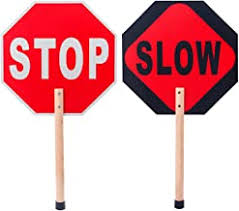SS: (2, 3, 114, 118)
